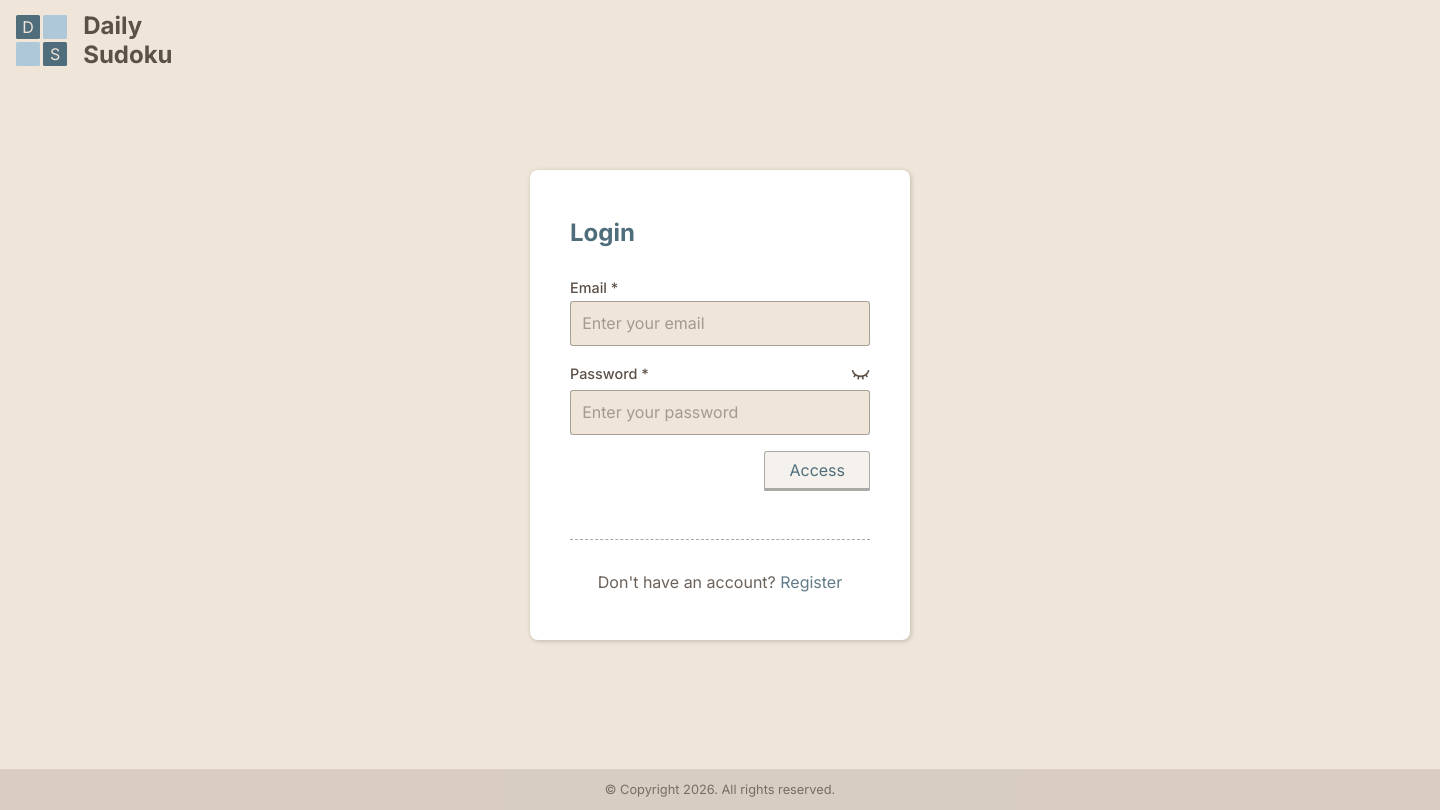
Test: Login Page › logs in successfully with valid credentials
Type "testhello@example.com" into the field labelled "Email *".
click(720, 323); type("testhello@example.com")  # box [570,301,870,346]
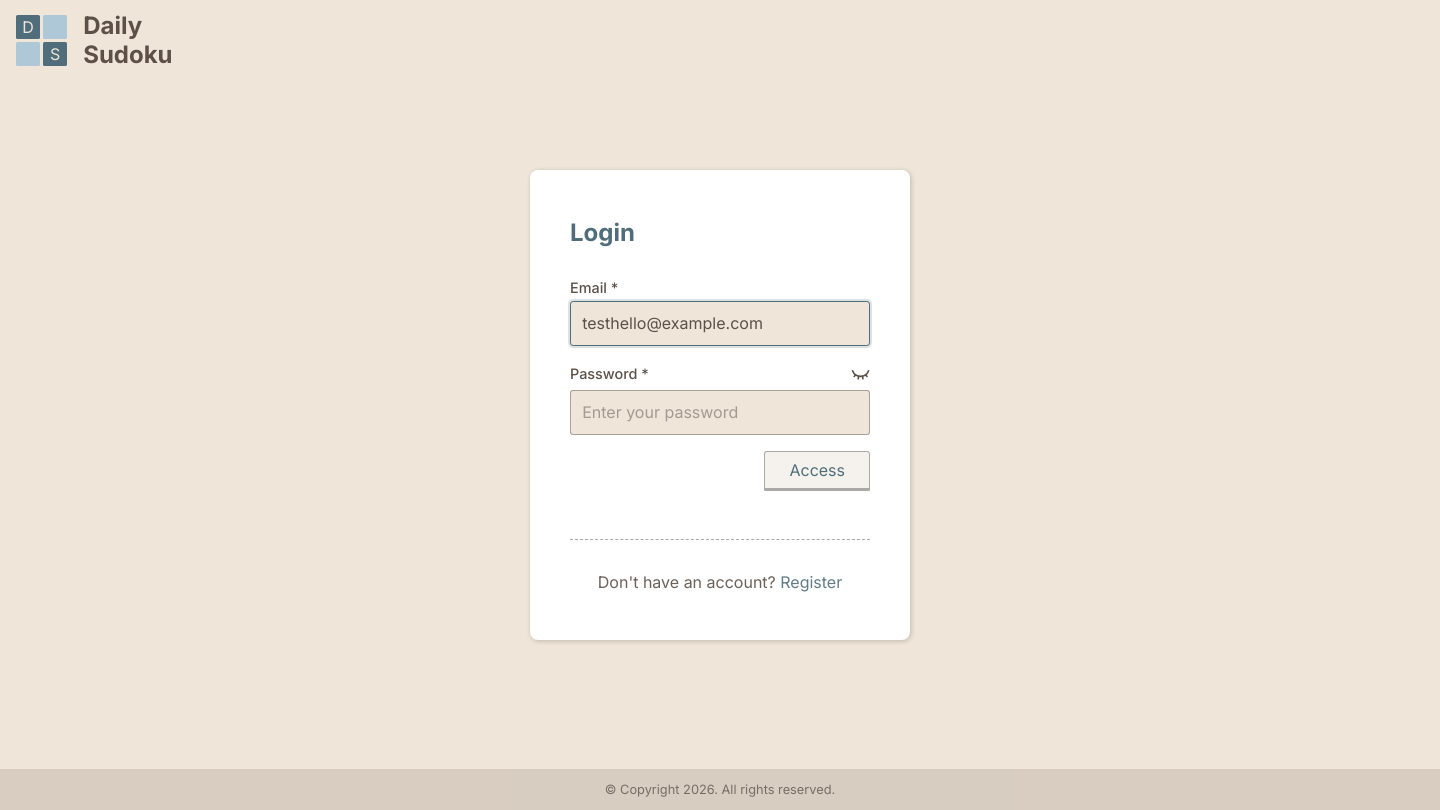
Type "some-password-valid" into the password field labelled "Password *".
click(720, 412); type("some-password-valid")  # box [570,390,870,435]
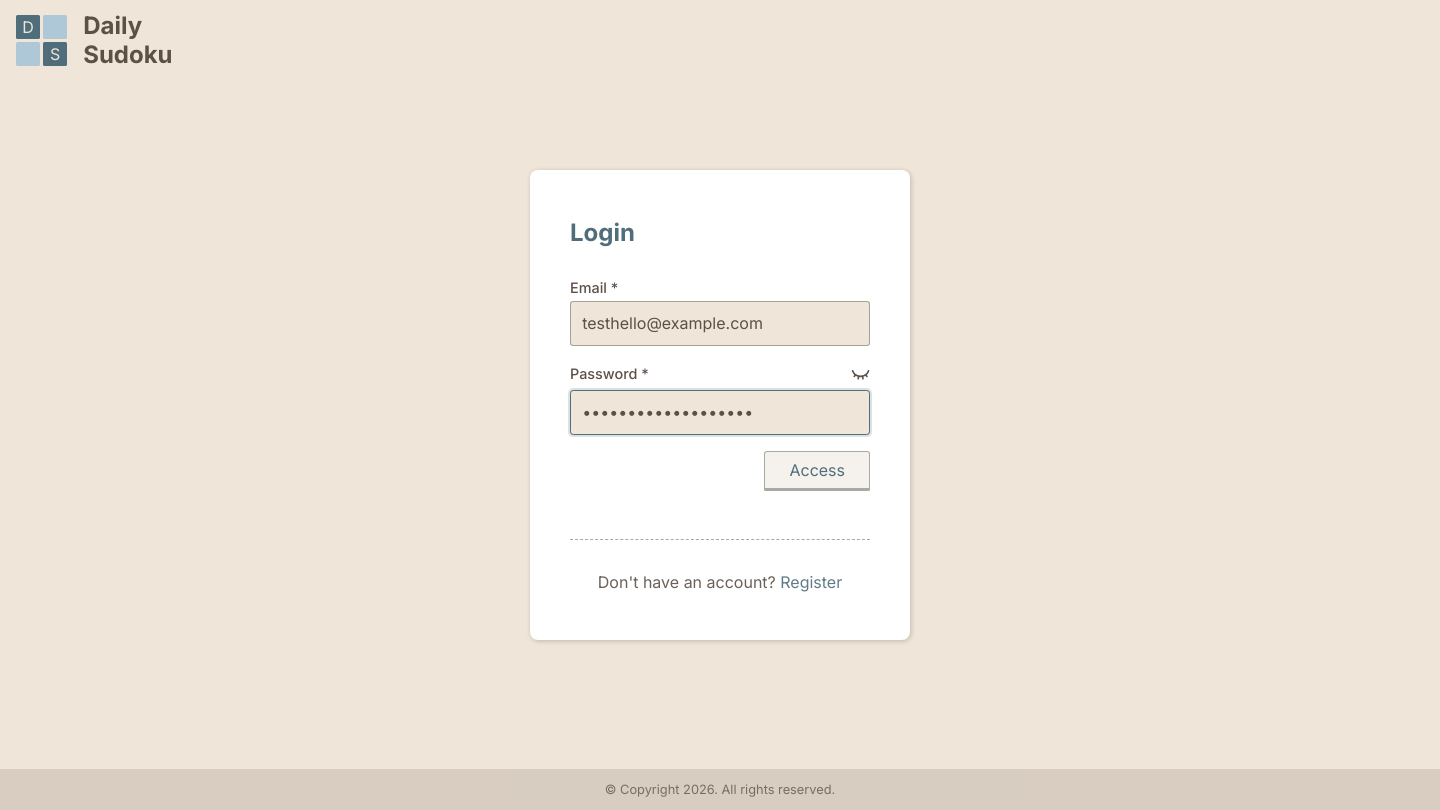
Click the button "Access".
click(817, 471)  # box [764,451,870,491]
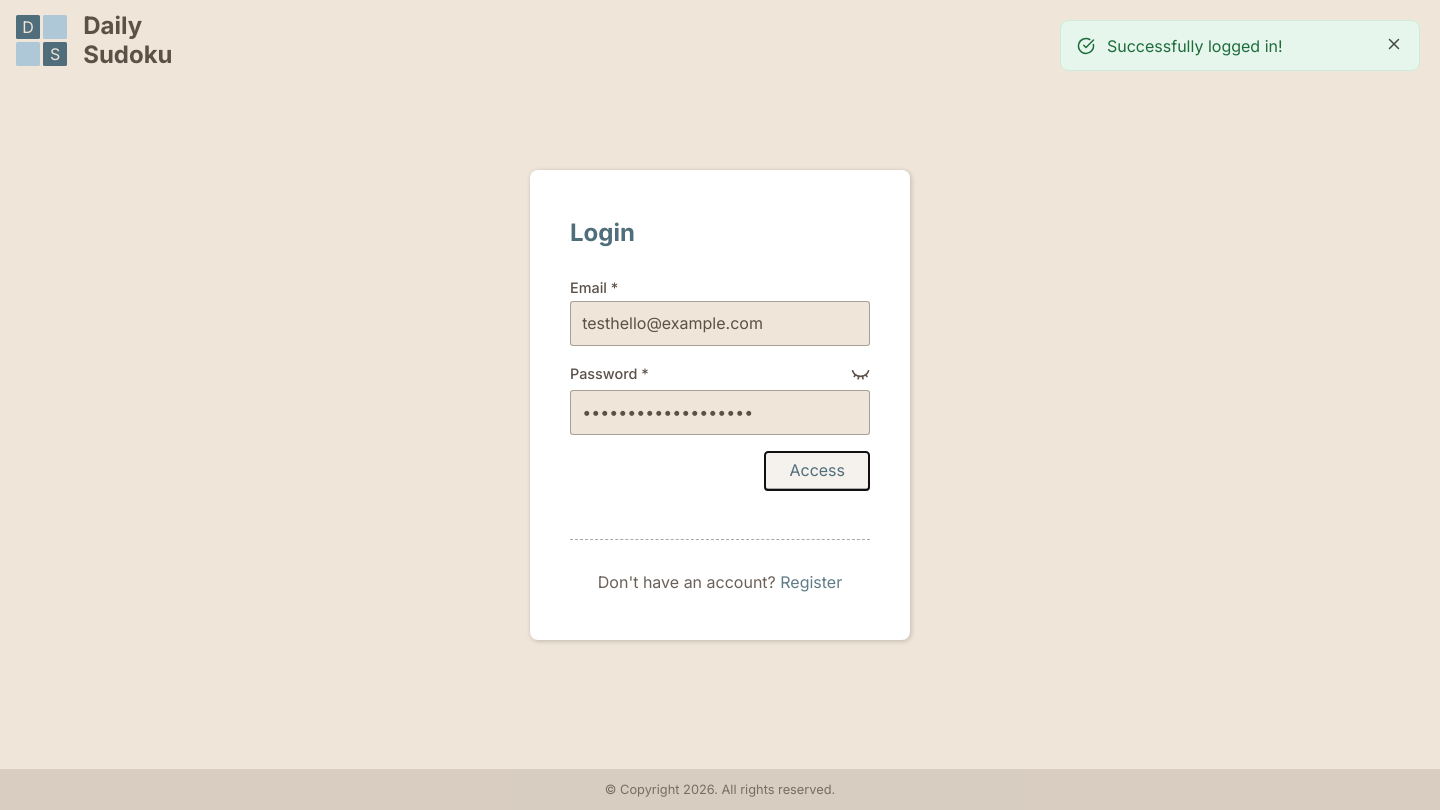
Check: the text "Successfully logged in!" is shown, box [1107,36,1283,56]
